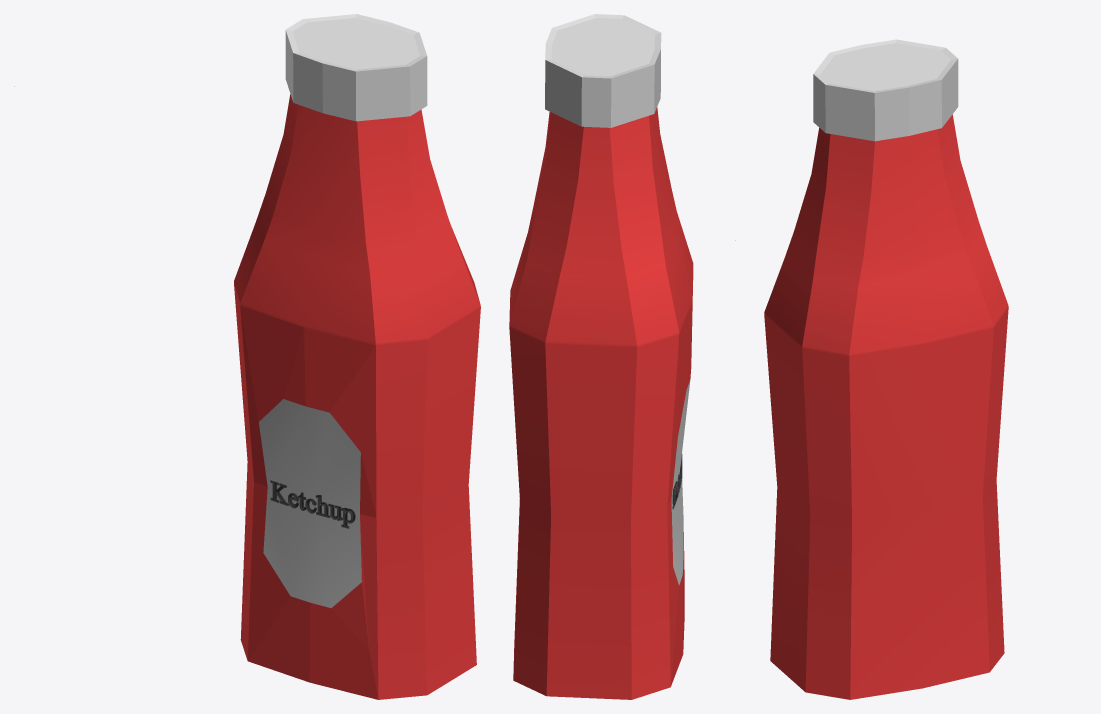
File: Ketchup.gltf
3 renders of one model, left to right at view 1: azimuth 30°, elevation 25°; view 2: azimuth 150°, elevation 25°; view 3: azimuth 270°, elevation 25°, orthographic. The views are drawn at different scales.
Parts seen in each view (by area): view 1: node-0; view 2: node-0; view 3: node-0.
Boxes of the visible parts, x1,y1,x2,y2 form: node-0: [14, 14, 480, 699]; node-0: [509, 14, 735, 699]; node-0: [764, 39, 1008, 699].
Bounding box in the file's own units: 527 × 913 × 453.
